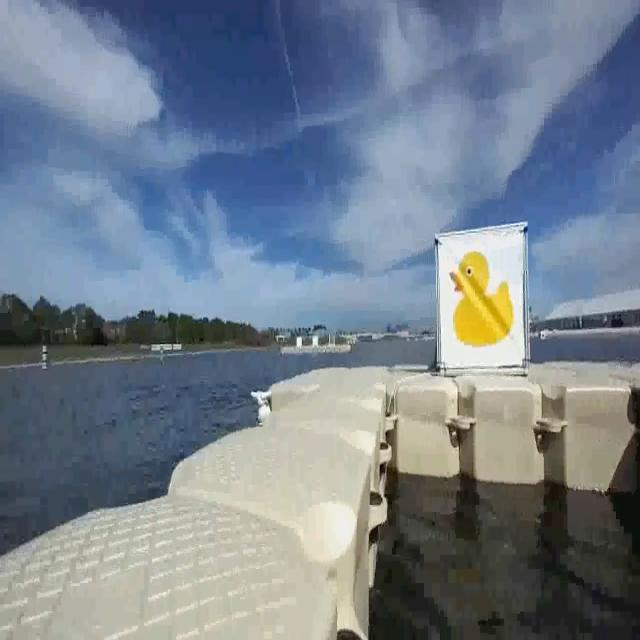yellow-duck: (434, 235, 523, 378)
